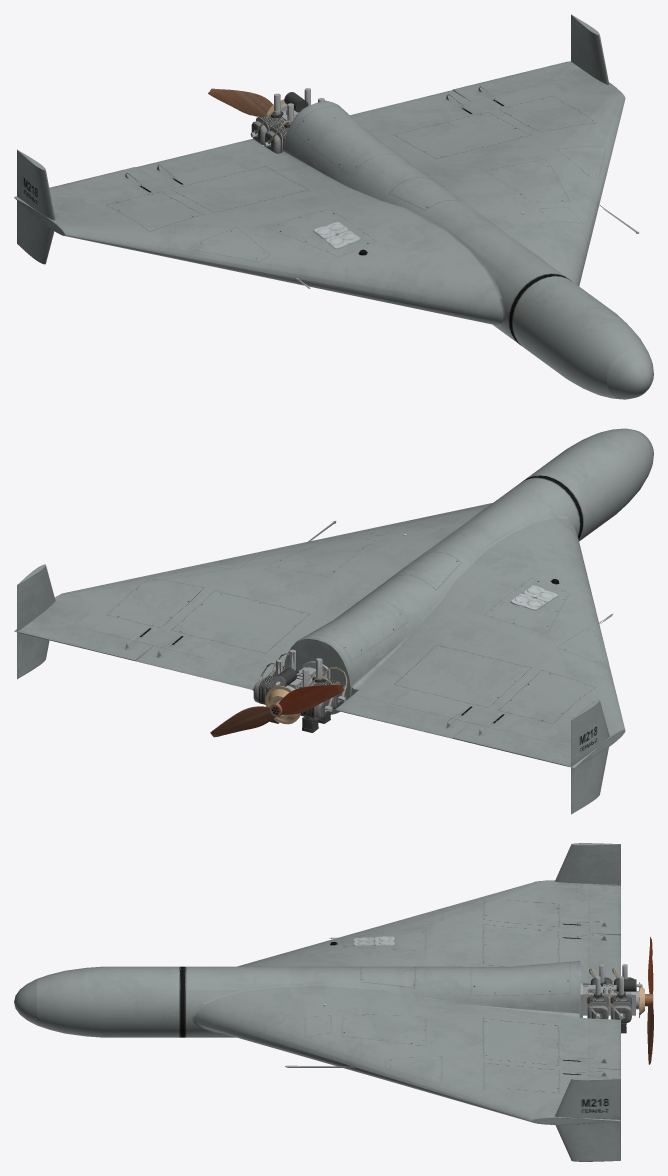
Rendered from Shahed136.FBX.
3 views of the same model, one above another, from view 1: azimuth 30°, elevation 25°; view 2: azimuth 150°, elevation 25°; view 3: azimuth 270°, elevation 25° (orthographic). The views are drawn at different scales.
Visible parts, largest first — view 1: Obj3d66-9050291-2-266; view 2: Obj3d66-9050291-2-266; view 3: Obj3d66-9050291-2-266.
Part boxes in pixels (x1,y1,x2,y2): Obj3d66-9050291-2-266: [14, 14, 653, 399]; Obj3d66-9050291-2-266: [14, 428, 653, 814]; Obj3d66-9050291-2-266: [14, 843, 653, 1161].
Size of the model in its own units: 169 by 27.17 by 192.
Materials: 1 (1 with a texture image).
